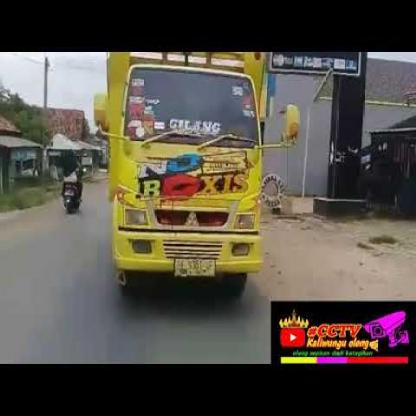truck: (96, 43, 305, 309)
